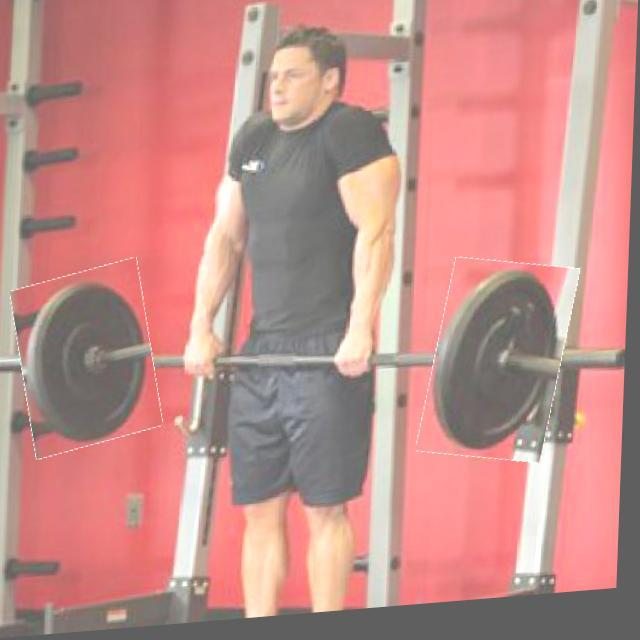barbell: (427, 263, 576, 476), (16, 265, 165, 458)
